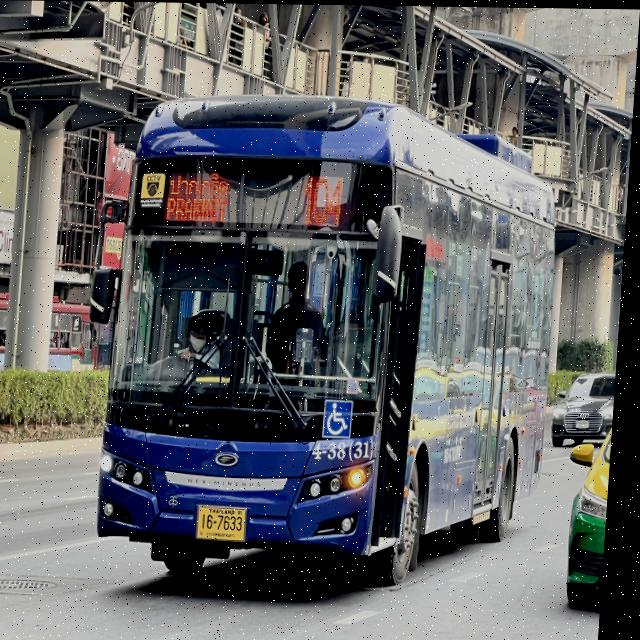Bus-Line-Number: (299, 168, 354, 229)
Destination-Sign-Normal: (168, 163, 238, 230)
TSB-Bus: (93, 78, 577, 589)
